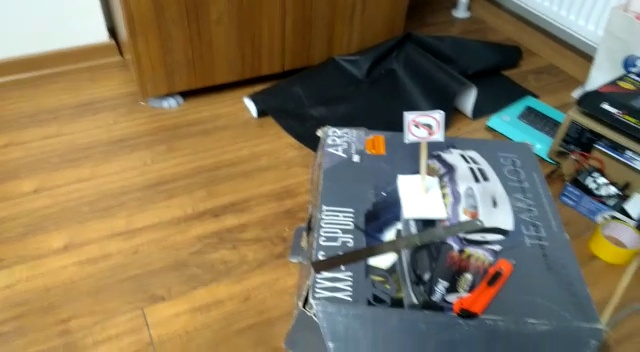sola_donulmez: (408, 115, 442, 143)
